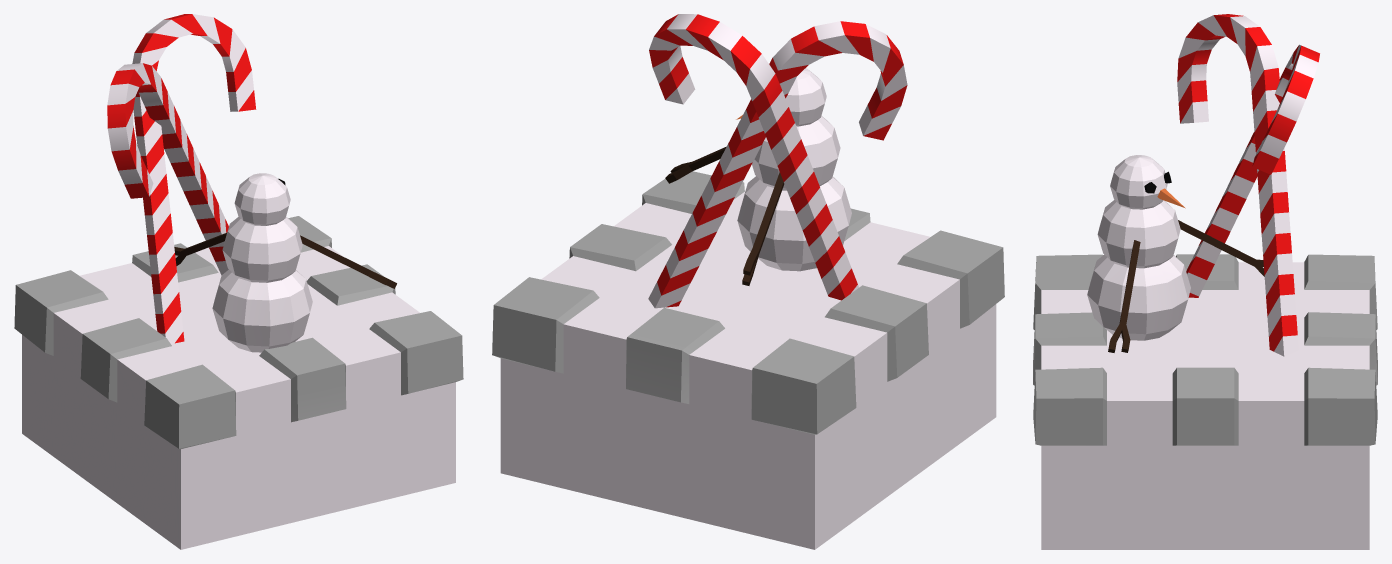
File: Christmass_Decor_1.fbx
3 renders of one model, left to right at view 1: azimuth 30°, elevation 25°; view 2: azimuth 150°, elevation 25°; view 3: azimuth 270°, elevation 25°, orthographic. The views are drawn at different scales.
Visible parts, largest first — view 1: Christmass_Decor_1; view 2: Christmass_Decor_1; view 3: Christmass_Decor_1.
Part boxes in pixels (box(x1,y1,x2,y2)): Christmass_Decor_1: box(14, 14, 463, 549); Christmass_Decor_1: box(492, 14, 1004, 549); Christmass_Decor_1: box(1033, 14, 1377, 549).
Size of the model in its own units: 210 by 286 by 210.
